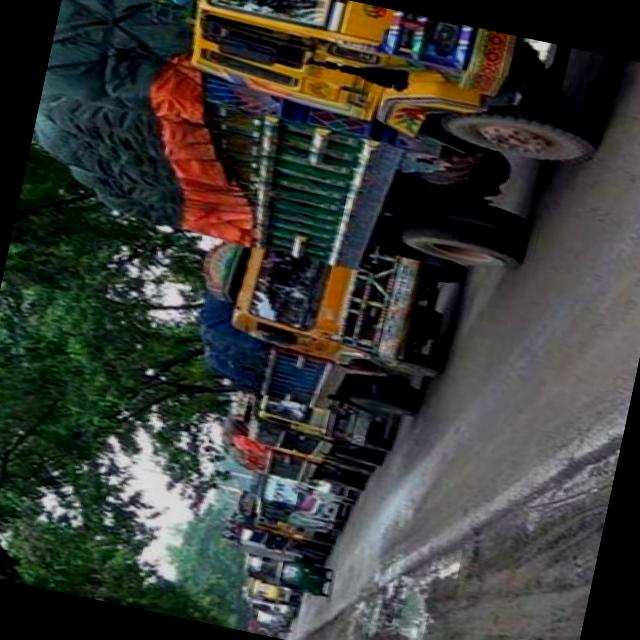bus: (242, 472, 350, 539), (236, 552, 276, 582)
motorcycle: (267, 556, 333, 600)
truck: (63, 0, 609, 312), (174, 208, 462, 432), (232, 392, 388, 469), (232, 442, 364, 496), (229, 516, 328, 560), (282, 474, 351, 506), (240, 580, 293, 609)
